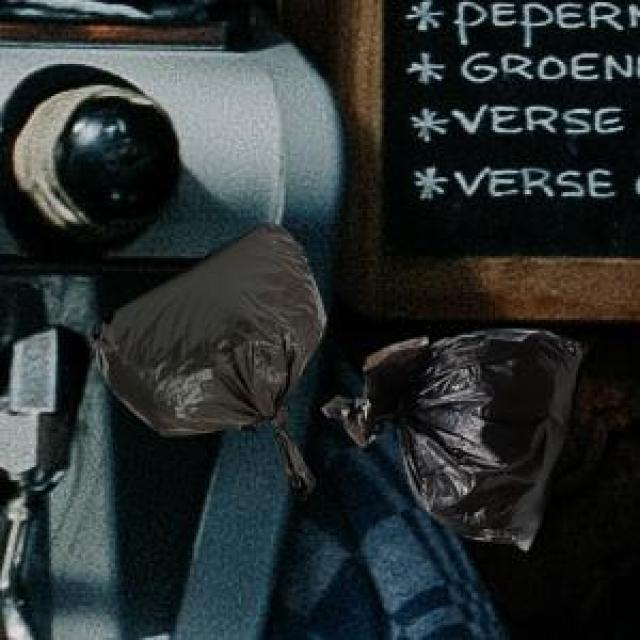miscellaneous trash: (88, 220, 322, 495), (318, 326, 582, 546)
